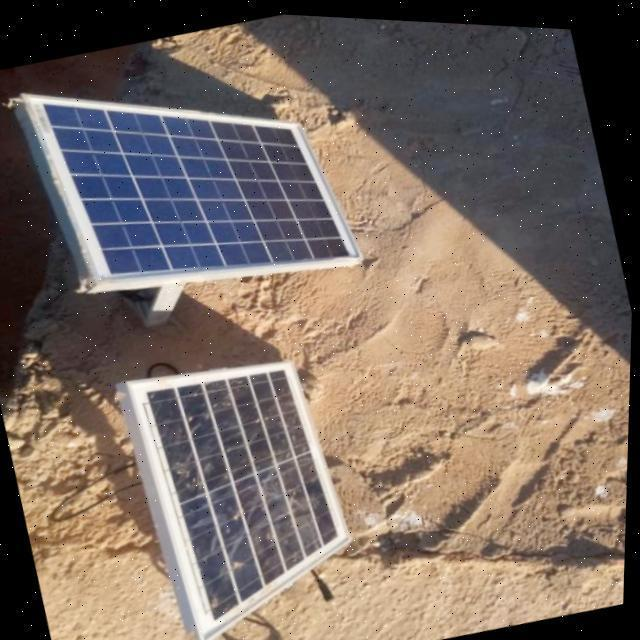Anomaly Solar Panel: (127, 357, 356, 640)
Normal Solar Panel: (26, 92, 361, 279)
Surface Contaminant: (148, 366, 340, 617)
